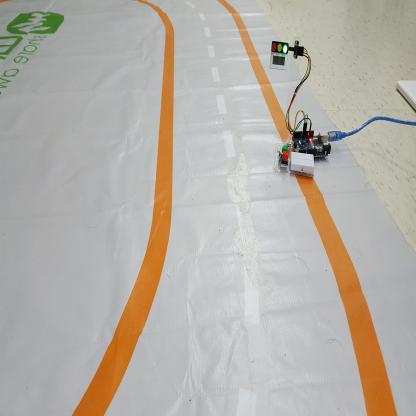traffic-light: (271, 39, 290, 55)
